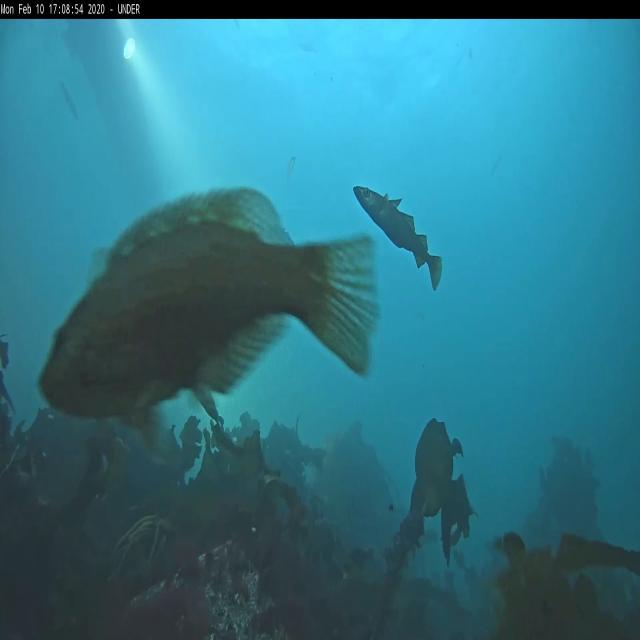fish: (38, 185, 380, 460), (352, 184, 442, 294), (58, 81, 77, 119), (286, 156, 296, 184)
